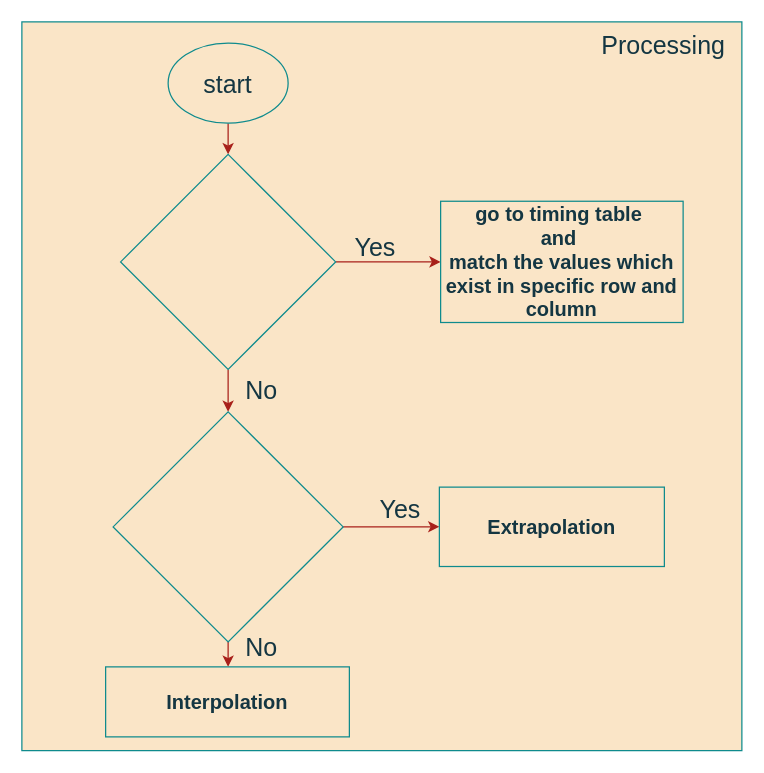
Some shapes in this 764 by 773 pixel diagram are drawn without their labels. The shapes that lost their labels are listed below. From the top down, each one's box as (x1, y1, x2, y2) in pixels, then its label:
(119, 153, 336, 369): If input transtion and output capacitance exists in LUT
(112, 411, 343, 642): If input transtion or output capacitance out of Range
